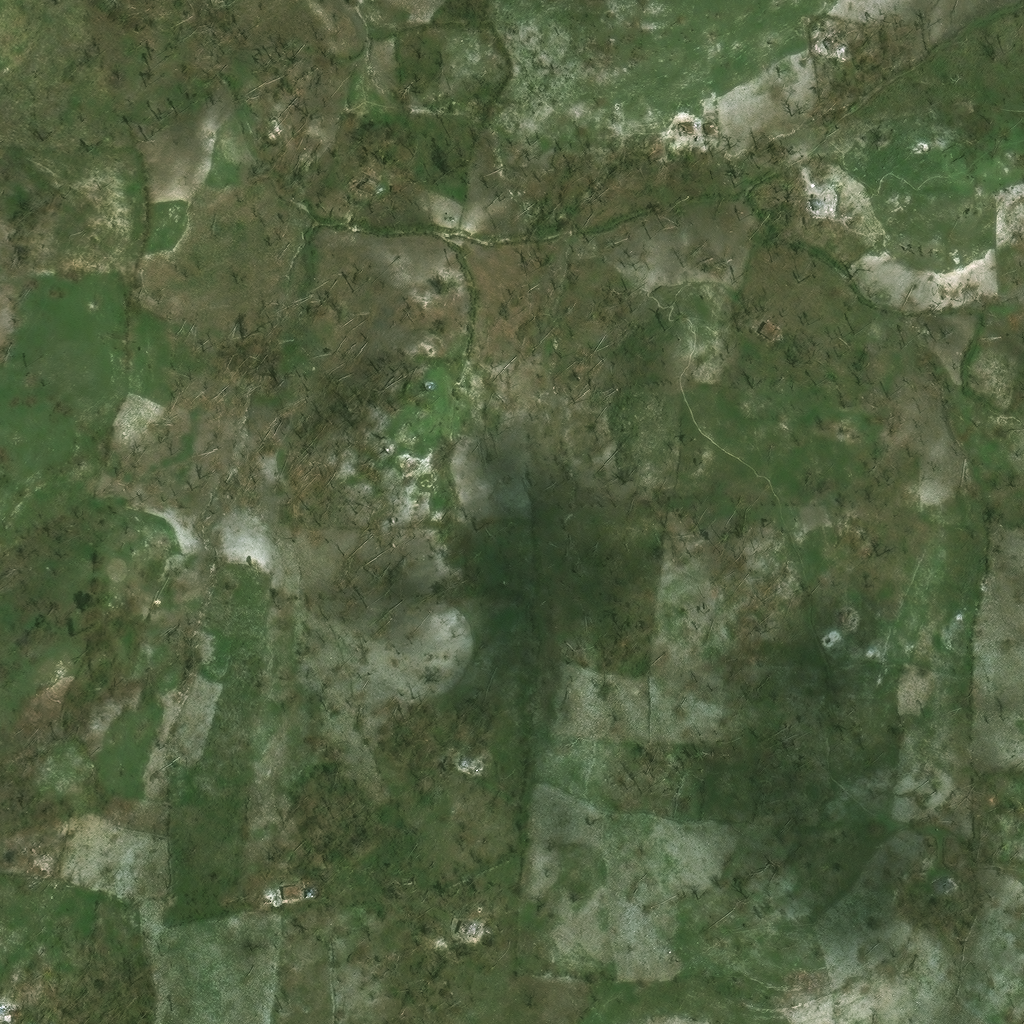destroyed: (467, 746, 492, 766), (29, 853, 45, 869), (438, 932, 456, 946), (0, 997, 12, 1013)
major_damage: (834, 23, 858, 47), (461, 916, 487, 933), (689, 112, 706, 130), (287, 880, 309, 893), (840, 181, 853, 200)
minor_damage: (779, 306, 804, 329), (938, 870, 964, 887), (716, 112, 729, 126)
unclassified: (264, 115, 283, 134), (18, 999, 28, 1008)
